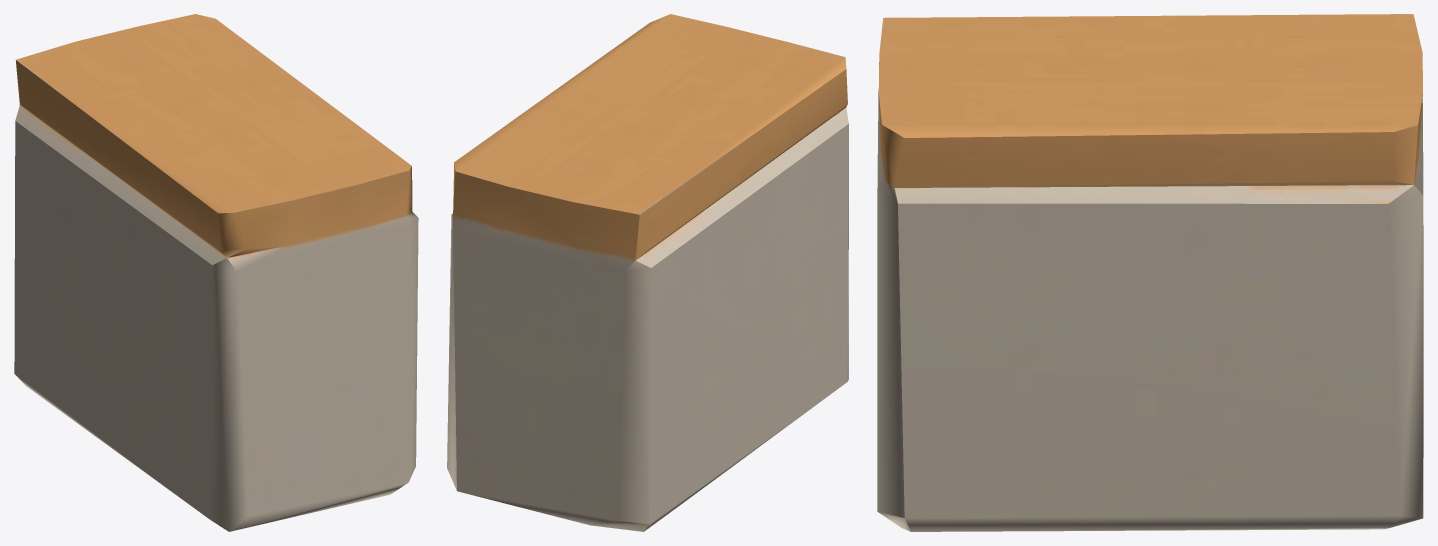
Rendered from perch_seat.glb.
3 views of the same model, side by side, from view 1: azimuth 30°, elevation 25°; view 2: azimuth 150°, elevation 25°; view 3: azimuth 270°, elevation 25° (orthographic). The views are drawn at different scales.
Visible parts, largest first — view 1: body; view 2: body; view 3: body.
Part boxes in pixels (x1=…): body: x1=14, y1=14, x2=418, y2=531; body: x1=447, y1=14, x2=848, y2=531; body: x1=877, y1=14, x2=1423, y2=531.
Size of the model in its own units: 0.2997 by 0.4596 by 0.5546.
1 material, 1 textured.
